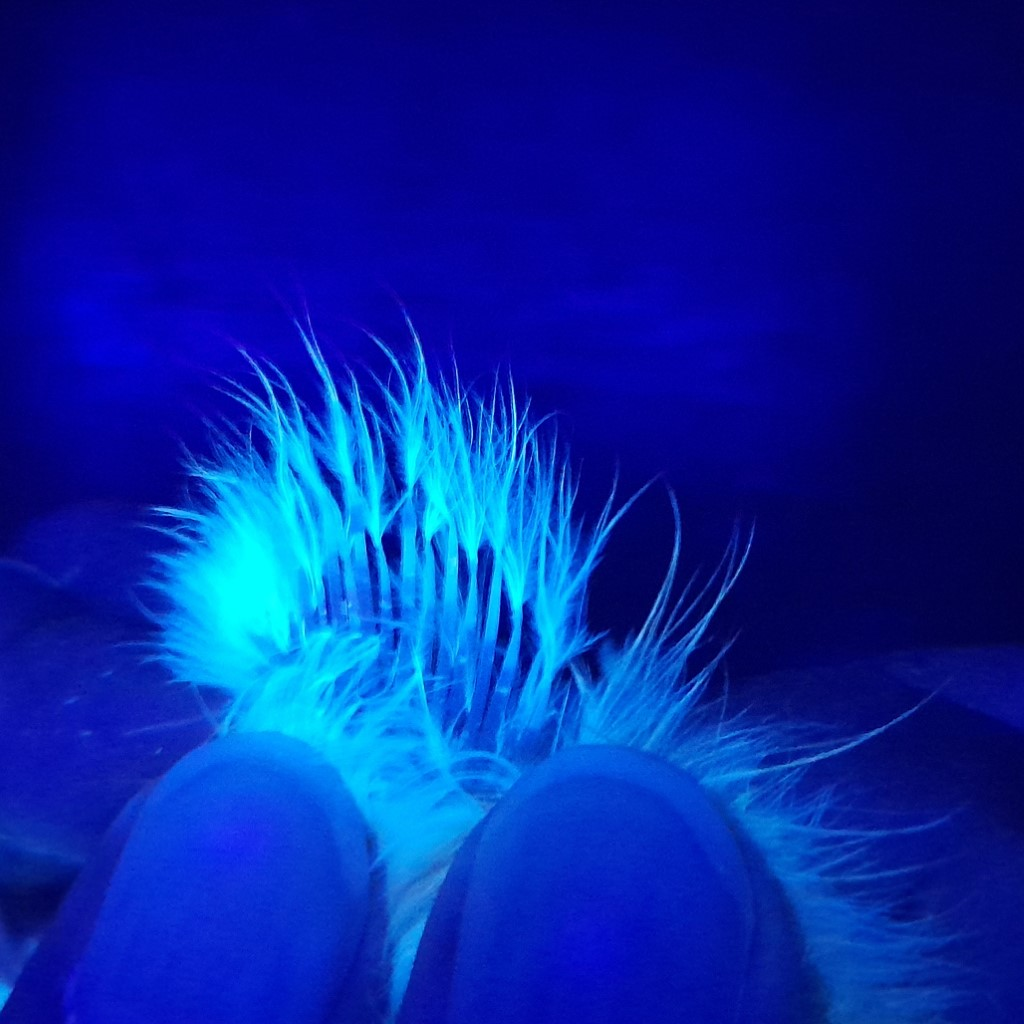male: (281, 495, 573, 812)
